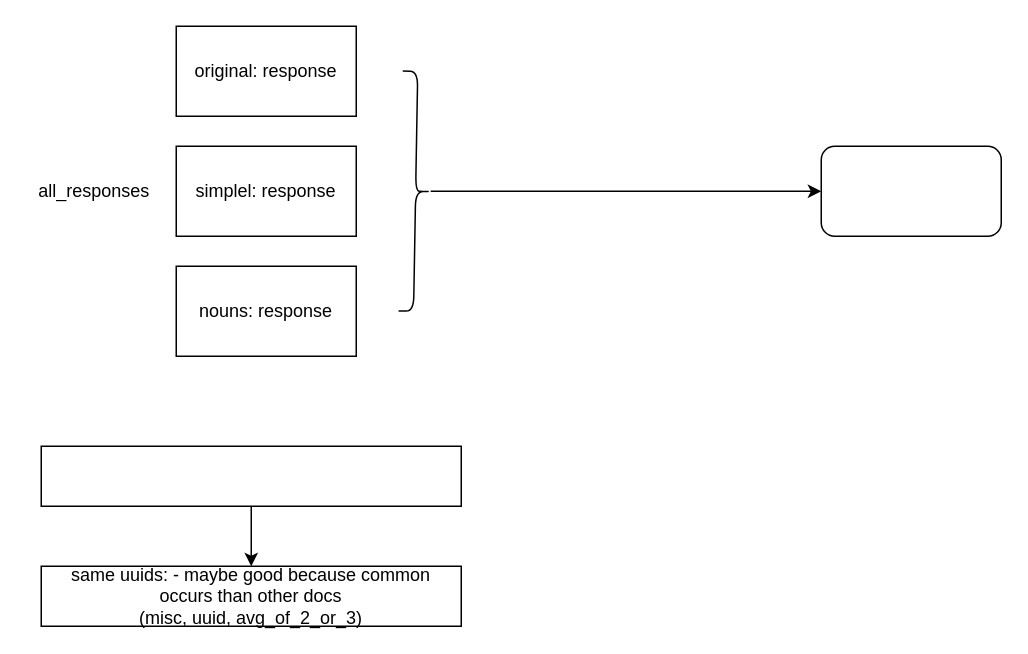
Image size: 1028x654. Some labels were removed from this diagram. The shapes that lost their labels are listed below. From the top down, each one's centre as x and y in pixels, then its label:
At pixel 910 190: "uuid trec_id new_score".
At pixel 250 475: "sort all values in tuppel (desc, uuid, value*weight) weights: 1,25 - 1 - 0.75".
